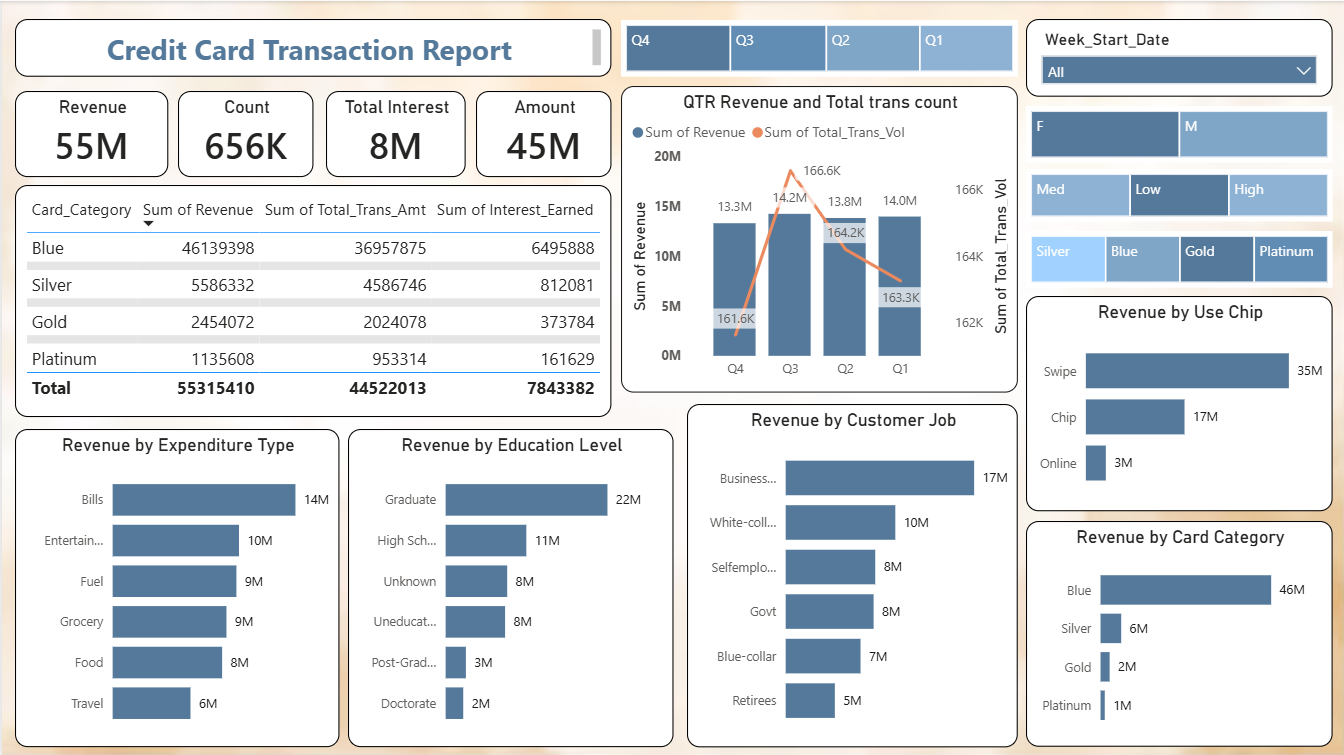

The page's visual inventory and layout, read from the dashboard file:
{"tool":"powerbi","page":{"name":"cc transaction","canvas":[1280,720],"ordinal":0},"visuals":[{"type":"textbox","box":[12.8,16.7,567.9,55.1],"z":0},{"type":"lineStackedColumnComboChart","title":"QTR Revenue and Total trans count","fields":{"Category":["credit_card.Qtr"],"Y":["Sum(credit_card.Revenue)"],"Y2":["Sum(credit_card.Total_Trans_Vol)"]},"box":[589.7,80.8,378.2,292.3],"z":1000},{"type":"barChart","title":"Revenue by Expenditure Type","fields":{"Y":["Sum(credit_card.Revenue)"],"Category":["credit_card.Exp Type"]},"box":[12.8,407.7,309,302.6],"z":2000},{"type":"barChart","title":"Revenue by Customer Job","fields":{"Y":["Sum(credit_card.Revenue)"],"Category":["customer.Customer_Job"]},"box":[652.6,383.3,315.4,326.9],"z":3000},{"type":"barChart","title":"Revenue by Education Level","fields":{"Y":["Sum(credit_card.Revenue)"],"Category":["customer.Education_Level"]},"box":[329.5,407.7,310.3,302.6],"z":4000},{"type":"barChart","title":"Revenue by Card Category","fields":{"Y":["Sum(credit_card.Revenue)"],"Category":["credit_card.Card_Category"]},"box":[975.6,494.9,292.3,215.4],"z":5000},{"type":"barChart","title":"Revenue by Use Chip","fields":{"Y":["Sum(credit_card.Revenue)"],"Category":["credit_card.Use Chip"]},"box":[975.6,280.8,292.3,205.1],"z":6000},{"type":"tableEx","fields":{"Values":["credit_card.Card_Category","Sum(credit_card.Revenue)","Sum(credit_card.Total_Trans_Amt)","Sum(credit_card.Interest_Earned)"]},"box":[12.8,175.6,567.9,220.5],"z":7000},{"type":"cardVisual","title":"Revenue","fields":{"Data":["Sum(credit_card.Revenue)"]},"box":[12.8,85.9,146.2,82.1],"z":8000},{"type":"cardVisual","title":"Count","fields":{"Data":["Sum(credit_card.Total_Trans_Vol)"]},"box":[167.9,85.9,129.5,82.1],"z":9000},{"type":"cardVisual","title":"Total Interest","fields":{"Data":["Sum(credit_card.Interest_Earned)"]},"box":[309,85.9,133.3,82.1],"z":10000},{"type":"cardVisual","title":"Amount","fields":{"Data":["Sum(credit_card.Total_Trans_Amt)"]},"box":[451.3,85.9,129.5,82.1],"z":11000},{"type":"slicer","fields":{"Values":["credit_card.Week_Start_Date"]},"box":[975.6,16.7,292.3,74.4],"z":12000},{"type":"treemap","fields":{"Group":["credit_card.Qtr"],"Values":["Avg(customer.Client_Num)"]},"box":[589.7,17.9,378.2,53.8],"z":13000},{"type":"treemap","fields":{"Group":["customer.Gender"],"Values":["Avg(customer.Client_Num)"]},"box":[975.6,100,292.3,53.8],"z":14000},{"type":"treemap","fields":{"Group":["credit_card.Card_Category"],"Values":["Avg(customer.Client_Num)"]},"box":[975.6,219.2,292.3,53.8],"z":15000},{"type":"treemap","fields":{"Group":["customer.IncomeGroup"],"Values":["Avg(customer.Client_Num)"]},"box":[975.6,160.3,292.3,50],"z":16000}]}

Visuals, with their boxes in screenshot pixels (x1, y1, x2, y2), scaled from the page's 1280x720 canvas onto the 1344x755 screenshot:
textbox: [x1=13, y1=18, x2=610, y2=75]
"QTR Revenue and Total trans count" lineStackedColumnComboChart: [x1=619, y1=85, x2=1016, y2=391]
"Revenue by Expenditure Type" barChart: [x1=13, y1=428, x2=338, y2=745]
"Revenue by Customer Job" barChart: [x1=685, y1=402, x2=1016, y2=745]
"Revenue by Education Level" barChart: [x1=346, y1=428, x2=672, y2=745]
"Revenue by Card Category" barChart: [x1=1024, y1=519, x2=1331, y2=745]
"Revenue by Use Chip" barChart: [x1=1024, y1=294, x2=1331, y2=510]
tableEx - credit_card.Card_Category x Sum(credit_card.Revenue): [x1=13, y1=184, x2=610, y2=415]
"Revenue" cardVisual: [x1=13, y1=90, x2=167, y2=176]
"Count" cardVisual: [x1=176, y1=90, x2=312, y2=176]
"Total Interest" cardVisual: [x1=324, y1=90, x2=464, y2=176]
"Amount" cardVisual: [x1=474, y1=90, x2=610, y2=176]
slicer - credit_card.Week_Start_Date: [x1=1024, y1=18, x2=1331, y2=96]
treemap - credit_card.Qtr x Avg(customer.Client_Num): [x1=619, y1=19, x2=1016, y2=75]
treemap - customer.Gender x Avg(customer.Client_Num): [x1=1024, y1=105, x2=1331, y2=161]
treemap - credit_card.Card_Category x Avg(customer.Client_Num): [x1=1024, y1=230, x2=1331, y2=286]
treemap - customer.IncomeGroup x Avg(customer.Client_Num): [x1=1024, y1=168, x2=1331, y2=221]
